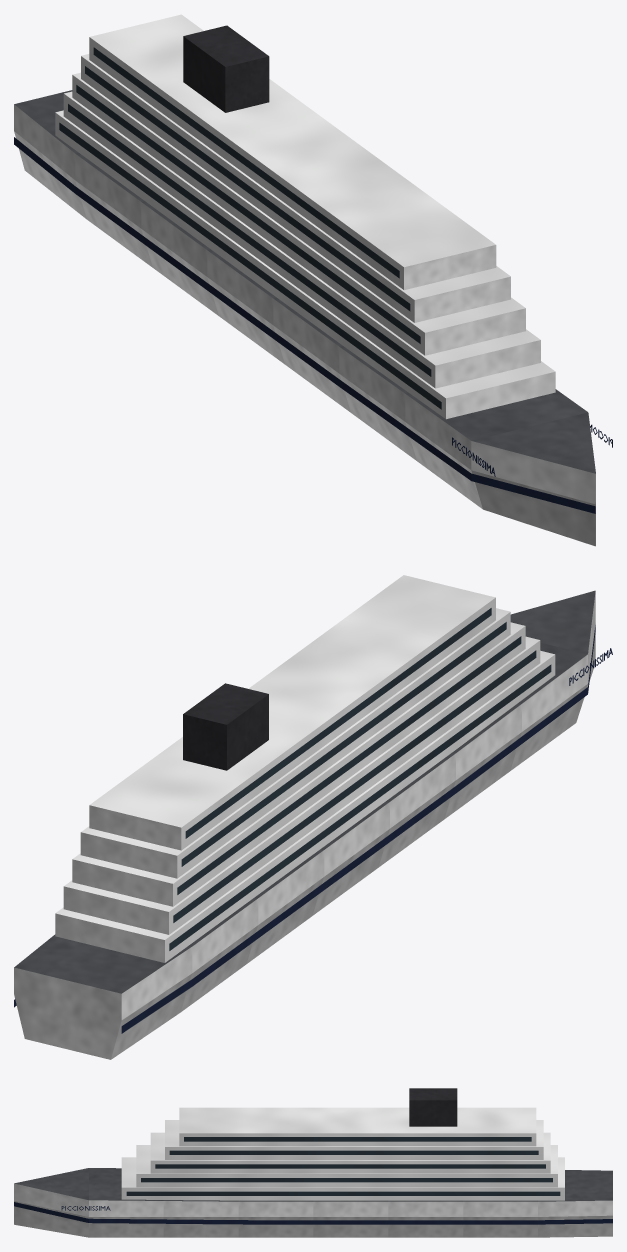
Rendered from SM_MoloItalia_NaveCrociera_LOD1.fbx.
The picture shows the model from 3 angles, top to bottom: view 1: azimuth 30°, elevation 25°; view 2: azimuth 150°, elevation 25°; view 3: azimuth 270°, elevation 25°; orthographic projection. The views are drawn at different scales.
Parts seen in each view (by area): view 1: SM_MoloItalia_NaveCrociera_LOD1; view 2: SM_MoloItalia_NaveCrociera_LOD1; view 3: SM_MoloItalia_NaveCrociera_LOD1.
Boxes of the visible parts, box(x1,y1,x2,y2) form: SM_MoloItalia_NaveCrociera_LOD1: box(14, 14, 612, 546); SM_MoloItalia_NaveCrociera_LOD1: box(14, 575, 612, 1059); SM_MoloItalia_NaveCrociera_LOD1: box(14, 1088, 612, 1237).
Bounding box in the file's own units: 3230 × 25000 × 6000.
Materials: 1 (1 with a texture image).
